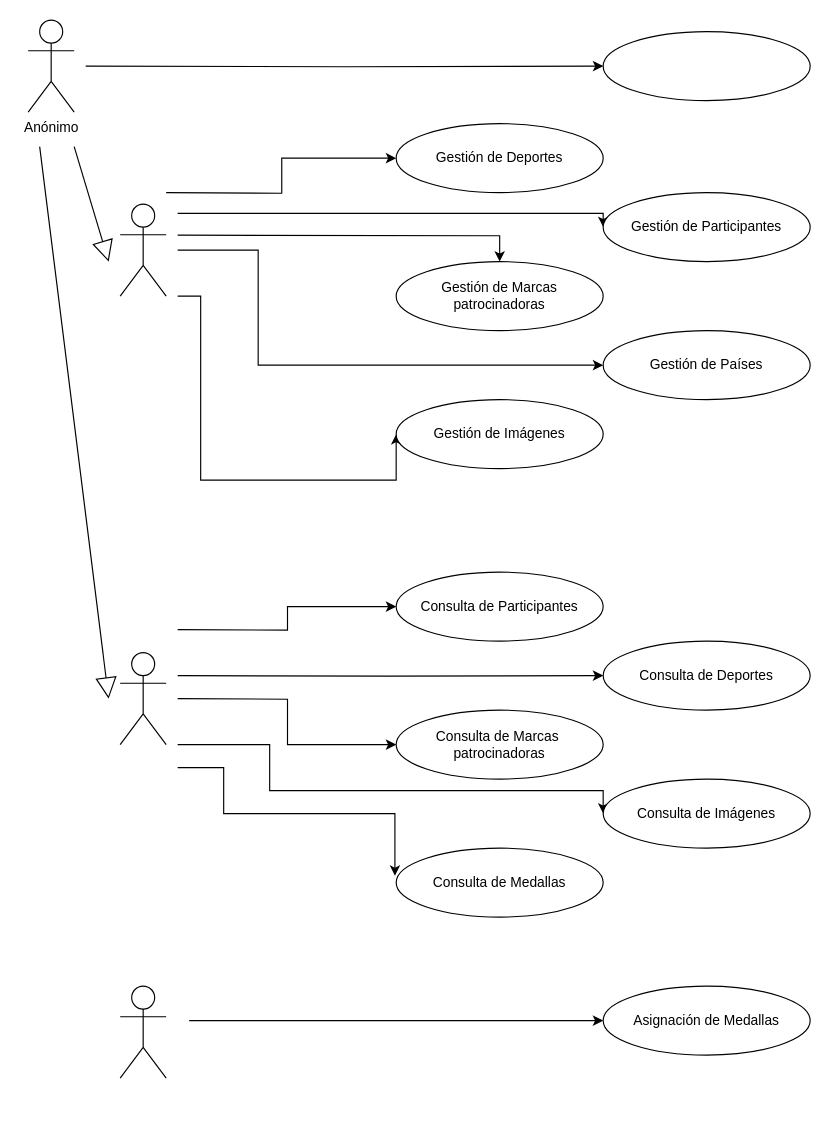
Some shapes in this 830 by 1122 pixel diagram are drawn without their labels. Here are the shapes that lost their labels. From the top down, the box of each, then its label:
(602, 30, 810, 101): Identificación
(119, 203, 166, 296): Admin
(119, 651, 166, 745): Usuario
(119, 985, 166, 1078): Tiempo
